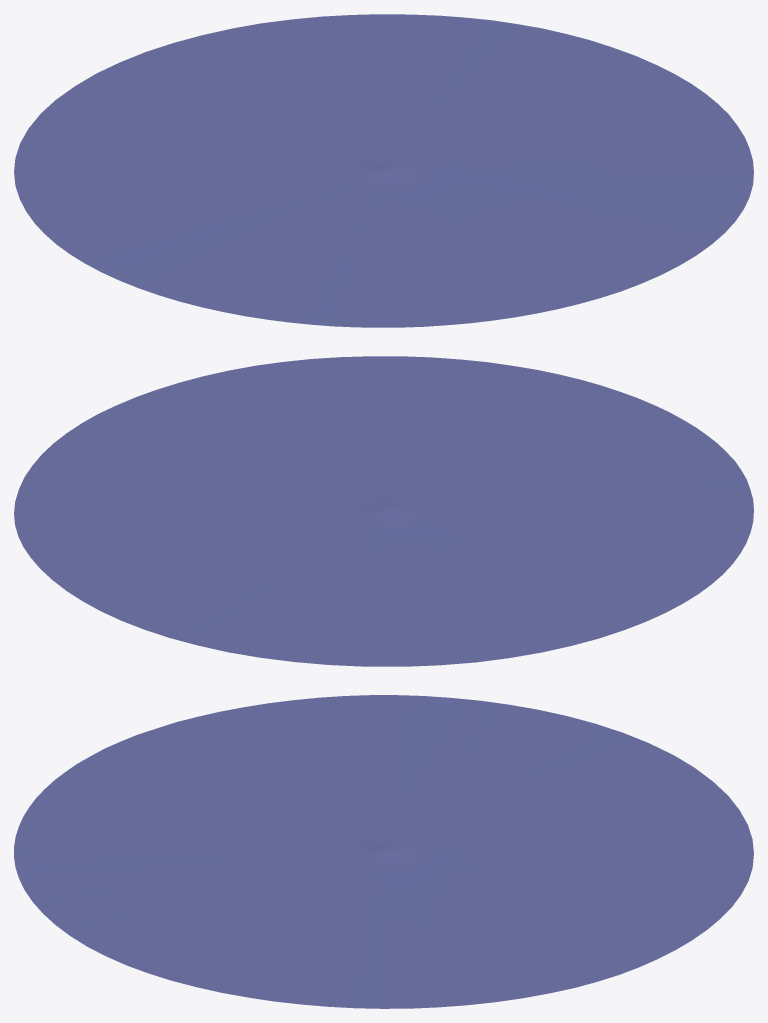
The model's file is ocean_floor_A_extend.fbx.
The picture shows the model from 3 angles, top to bottom: view 1: azimuth 30°, elevation 25°; view 2: azimuth 150°, elevation 25°; view 3: azimuth 270°, elevation 25°; orthographic projection.
Parts seen in each view (by area): view 1: ocean_floor_A_extend; view 2: ocean_floor_A_extend; view 3: ocean_floor_A_extend.
Boxes of the visible parts, left/top/right/bottom form: ocean_floor_A_extend: left=14, top=14, right=753, bottom=327; ocean_floor_A_extend: left=14, top=356, right=753, bottom=666; ocean_floor_A_extend: left=14, top=695, right=753, bottom=1008.
Bounding box in the file's own units: 621145 × 1941 × 619732.
